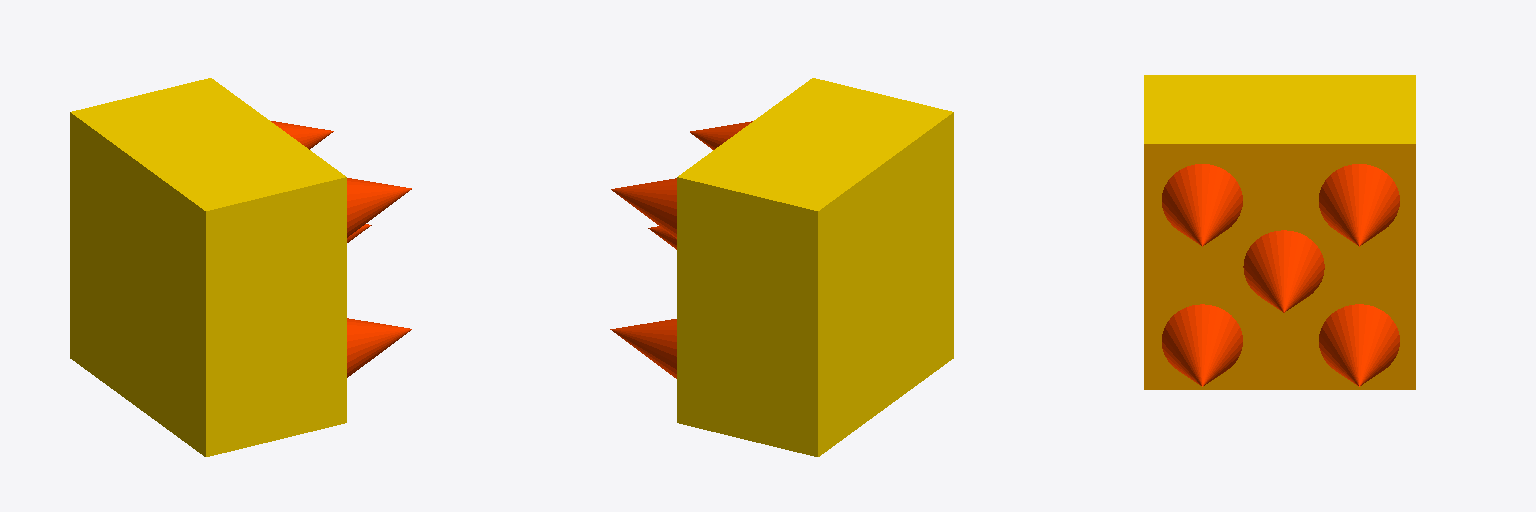
The picture shows the model from 3 angles: view 1: azimuth 30°, elevation 25°; view 2: azimuth 150°, elevation 25°; view 3: azimuth 270°, elevation 25°; orthographic projection.
Parts seen in each view (by area): view 1: Cube; view 2: Cube; view 3: Cube.
Boxes of the visible parts, box(x1,y1,x2,y2) form: Cube: box(70, 78, 411, 456); Cube: box(610, 78, 953, 456); Cube: box(1144, 75, 1415, 389).
Size of the model in its own units: 2.01 by 2 by 2.
1 materials, 1 textured.